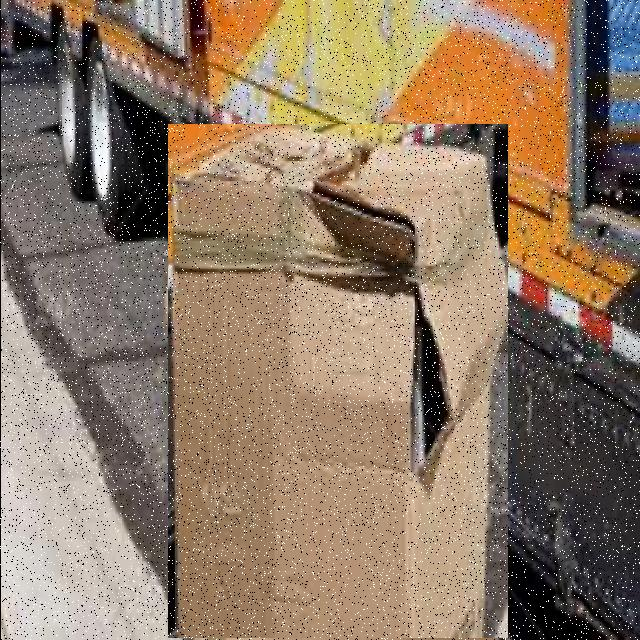defect: (168, 124, 508, 638)
